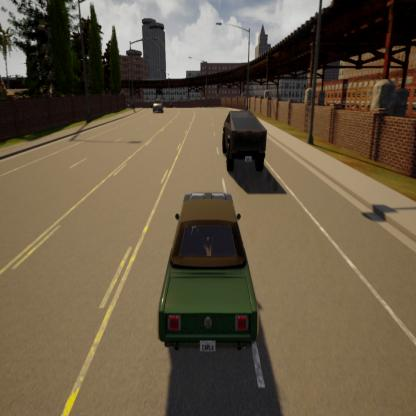Cars: (157, 191, 259, 354), (222, 107, 267, 172), (153, 96, 163, 116)
